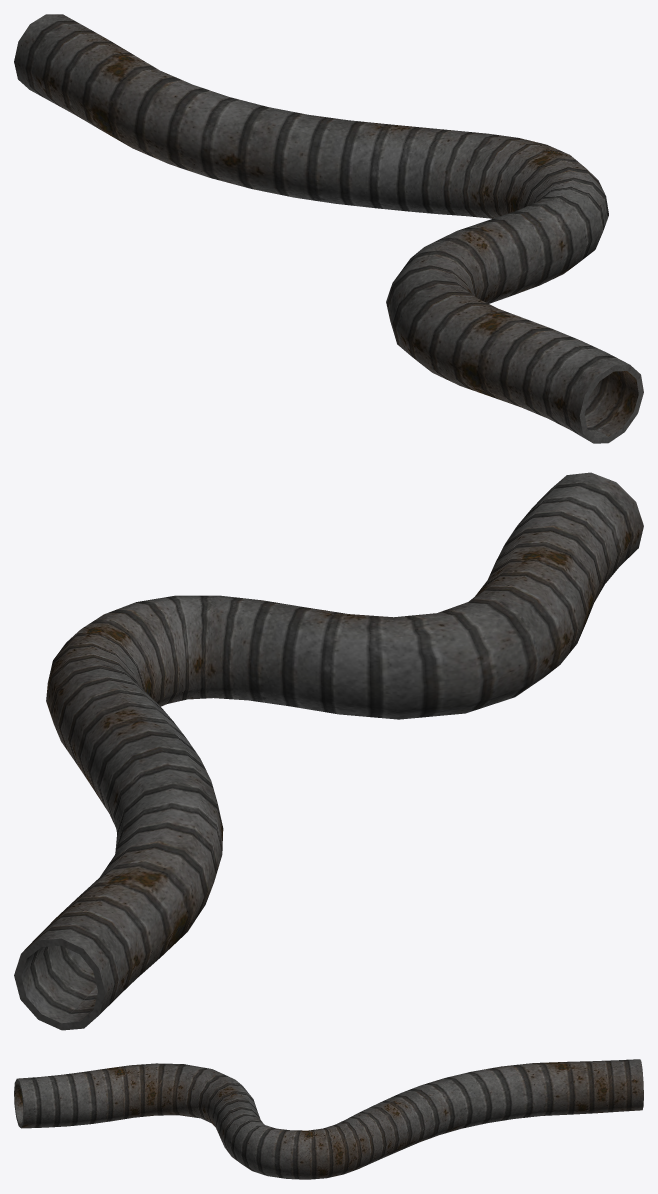
File: pipe_e_1.obj
3 views of the same model, one above another, from view 1: azimuth 30°, elevation 25°; view 2: azimuth 150°, elevation 25°; view 3: azimuth 270°, elevation 25° (orthographic). The views are drawn at different scales.
Parts seen in each view (by area): view 1: pipe_e_1; view 2: pipe_e_1; view 3: pipe_e_1.
Part boxes in pixels (bbox=[...]): pipe_e_1: bbox=[14, 14, 643, 443]; pipe_e_1: bbox=[14, 472, 643, 1030]; pipe_e_1: bbox=[14, 1059, 643, 1179].
Size of the model in its own units: 1.05 by 0.25 by 3.05.
